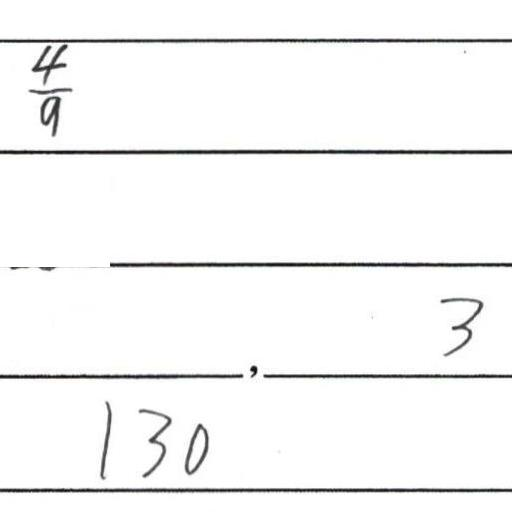ans: (91, 397, 214, 483), (21, 38, 74, 137), (435, 290, 484, 357)
